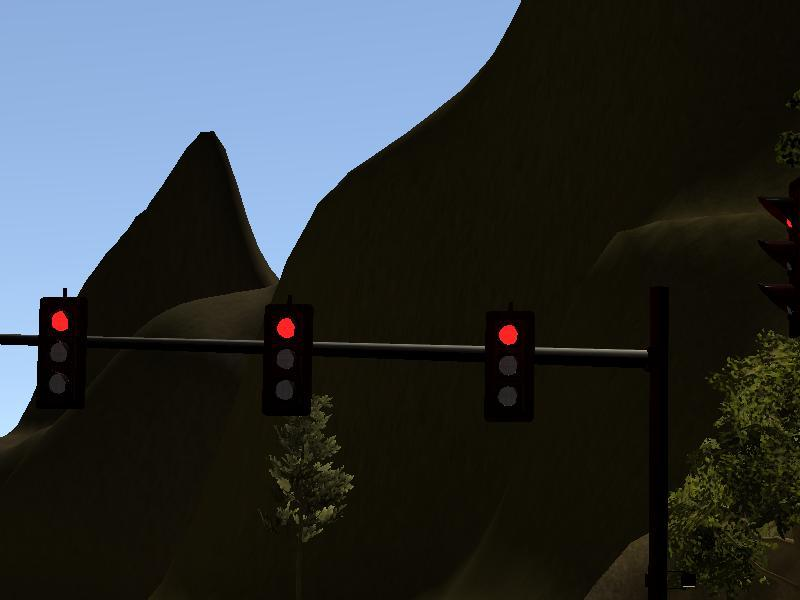Red: (493, 309, 532, 422), (39, 299, 81, 401), (266, 307, 306, 407)
